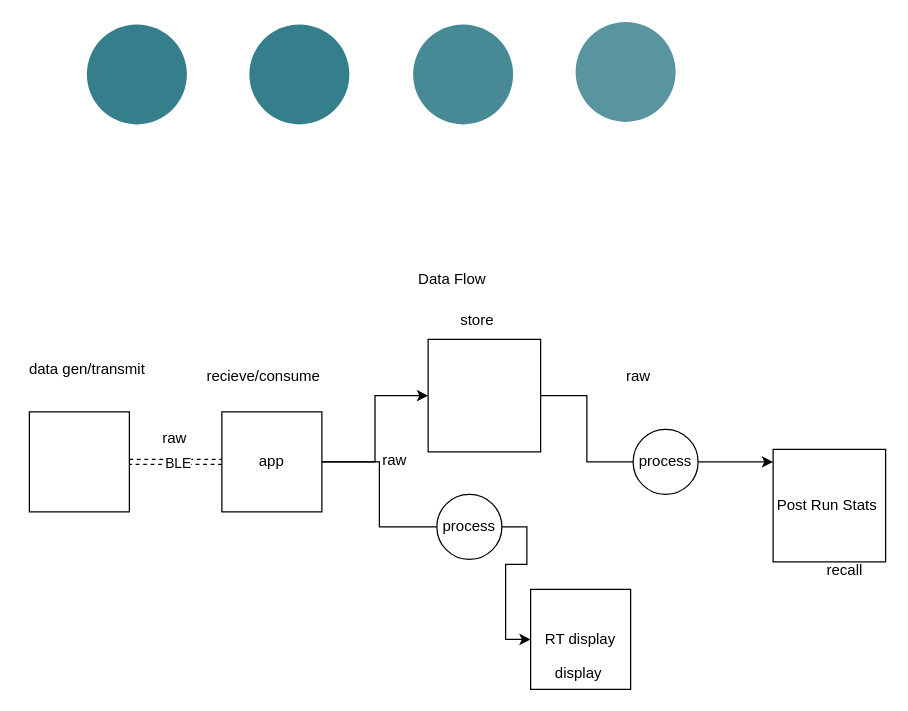
Some shapes in this 908 by 711 pixel diagram are drawn without their labels. Here are the shapes that lost their labels. From the top down, the centre of each, then its label:
At point 484,395: "DATABASE".
At point 78,461: "sled".
